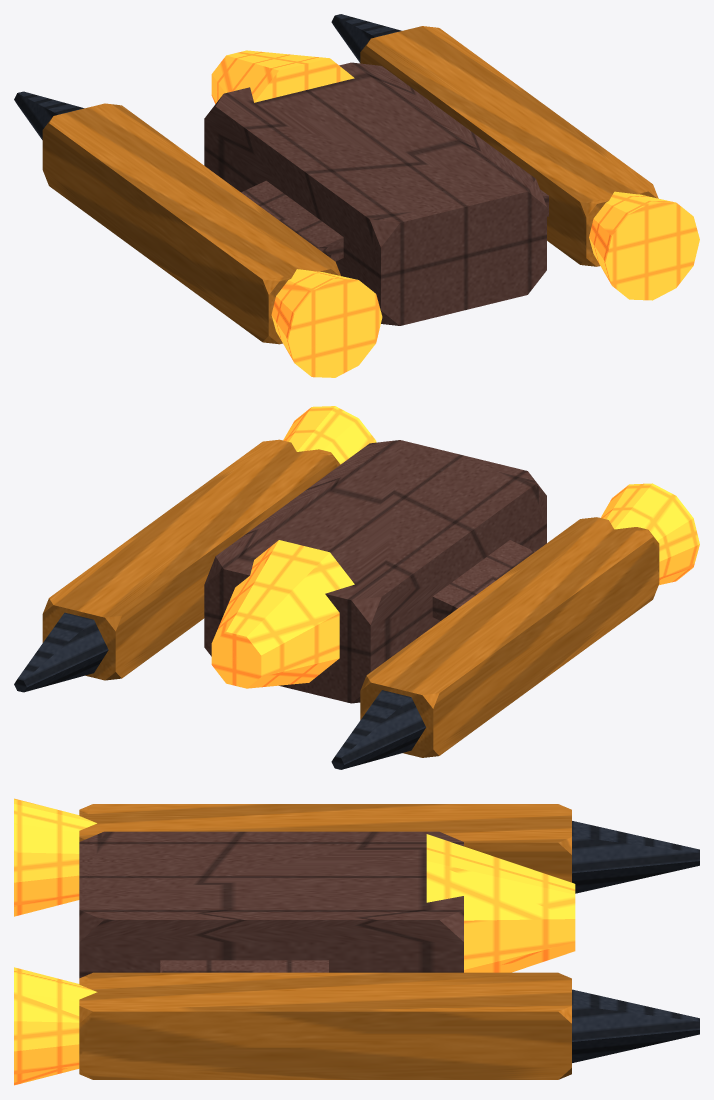
File: enemy_raider_ship.glb
3 views of the same model, one above another, from view 1: azimuth 30°, elevation 25°; view 2: azimuth 150°, elevation 25°; view 3: azimuth 270°, elevation 25° (orthographic). The views are drawn at different scales.
Visible parts, largest first — view 1: enemy_raider_ship; view 2: enemy_raider_ship; view 3: enemy_raider_ship.
Part boxes in pixels (x1=…): enemy_raider_ship: x1=14, y1=14, x2=699, y2=377; enemy_raider_ship: x1=14, y1=406, x2=699, y2=769; enemy_raider_ship: x1=14, y1=798, x2=699, y2=1085.
Size of the model in its own units: 3.84 by 1.21 by 5.09.
1 material, 1 textured.
